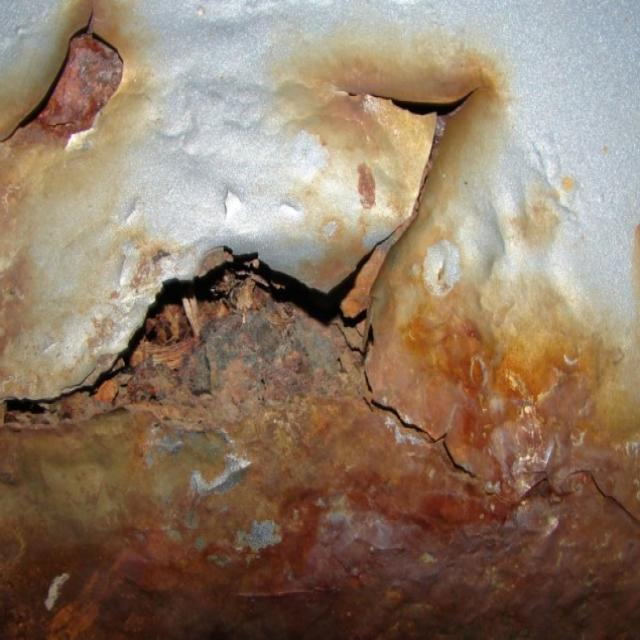Corrosion: (0, 259, 640, 640), (36, 32, 122, 136)
